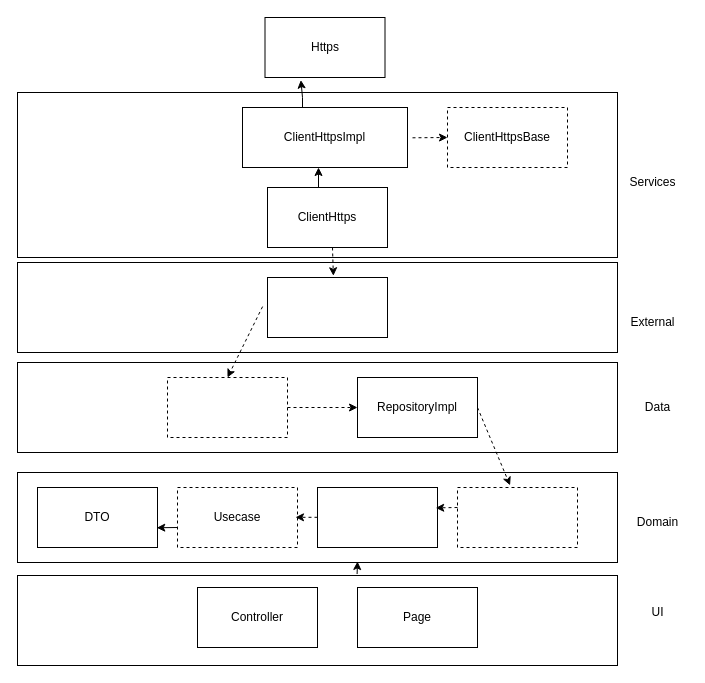
This 705x683 diagram has some shape labels left out. Each missing label, with the centre of its shape:
Datasource: the point at 227,407
DatasourceImpl: the point at 327,307
Repository: the point at 517,517
UsecaseImpl: the point at 377,517
